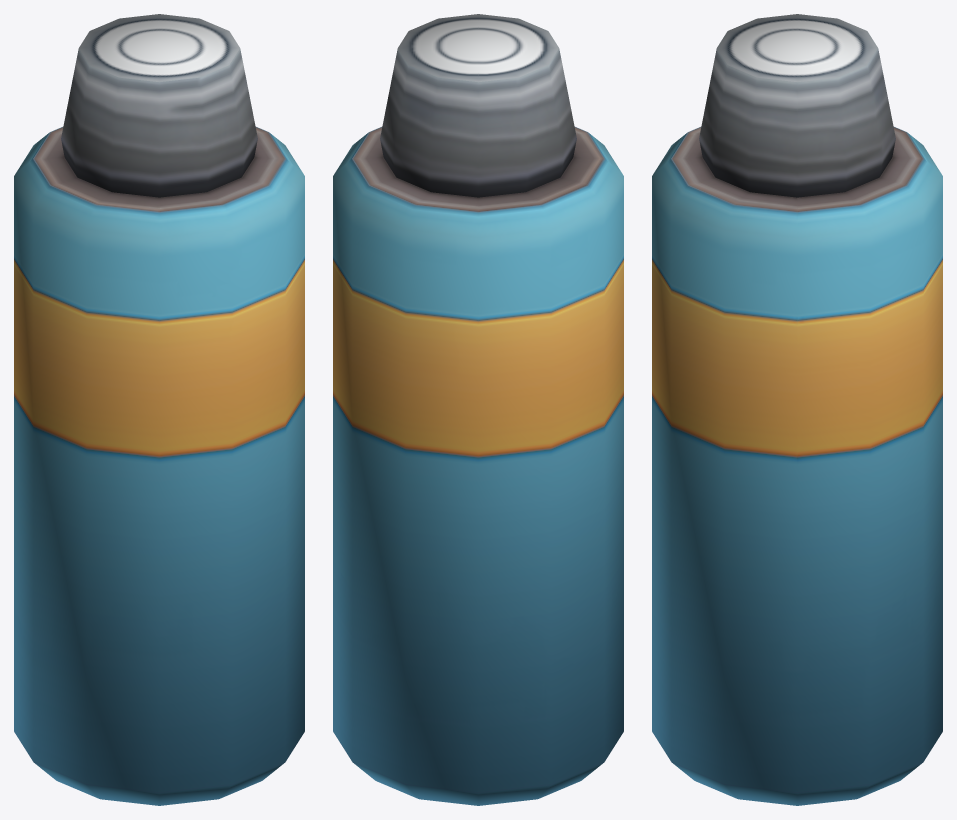
File: SE_Thermos_02.fbx
The picture shows the model from 3 angles, left to right: view 1: azimuth 30°, elevation 25°; view 2: azimuth 150°, elevation 25°; view 3: azimuth 270°, elevation 25°; orthographic projection.
Visible parts, largest first — view 1: SE_Thermos_02; view 2: SE_Thermos_02; view 3: SE_Thermos_02.
Part boxes in pixels (box(x1,y1,x2,y2)): SE_Thermos_02: box(14, 14, 304, 805); SE_Thermos_02: box(333, 14, 623, 805); SE_Thermos_02: box(652, 14, 942, 805).
Size of the model in its own units: 0.767 by 2.07 by 0.767.
